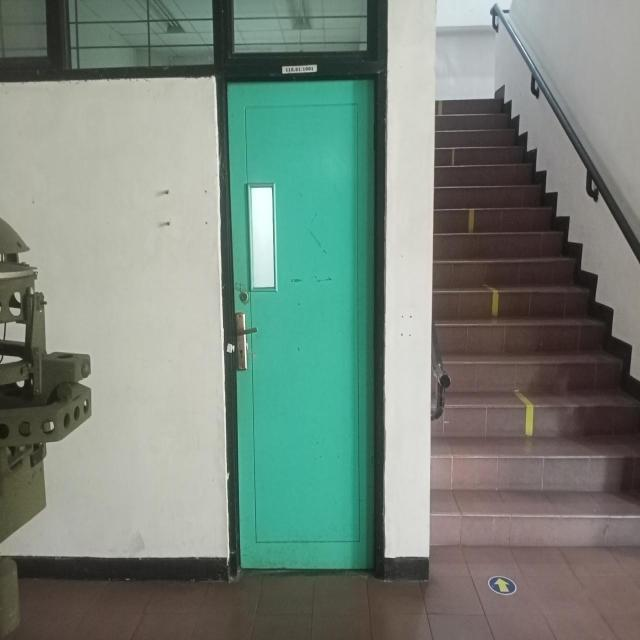door: (222, 75, 386, 572)
